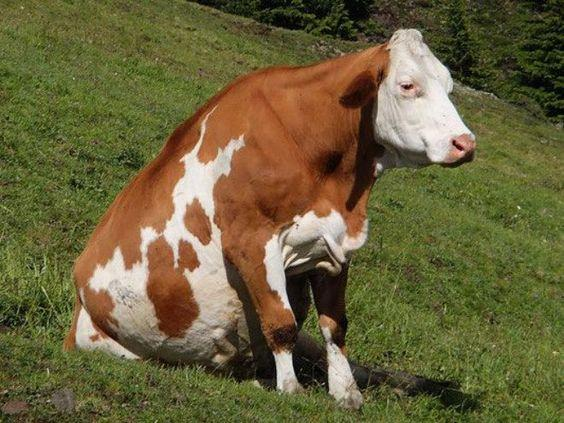cow: (41, 18, 541, 362)
